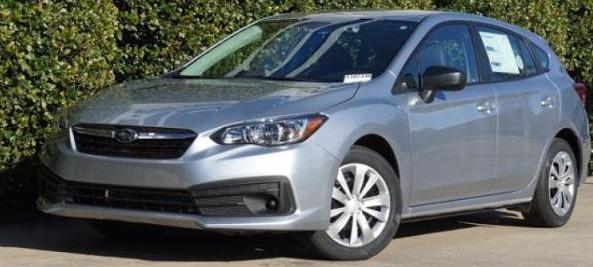Cars: (38, 13, 591, 260)
